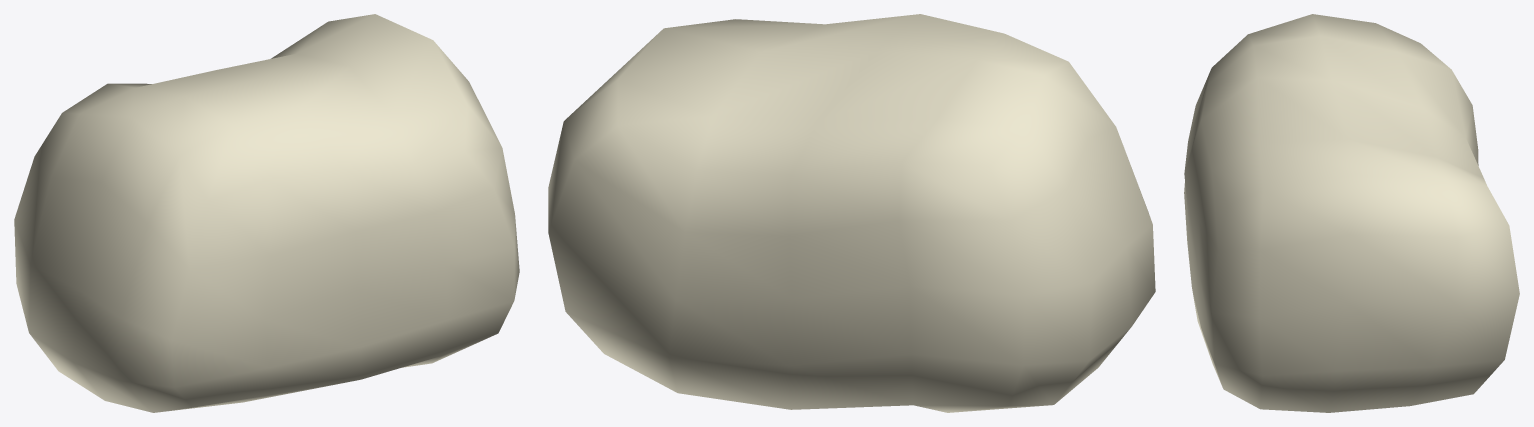
The model's file is ricecake3.fbx.
3 renders of one model, left to right at view 1: azimuth 30°, elevation 25°; view 2: azimuth 150°, elevation 25°; view 3: azimuth 270°, elevation 25°, orthographic. The views are drawn at different scales.
Visible parts, largest first — view 1: 떡3; view 2: 떡3; view 3: 떡3.
Part boxes in pixels (box(x1,y1,x2,y2)): 떡3: box(14, 14, 519, 412); 떡3: box(548, 14, 1155, 412); 떡3: box(1184, 14, 1519, 412).
Size of the model in its own units: 215 by 138 by 154.
